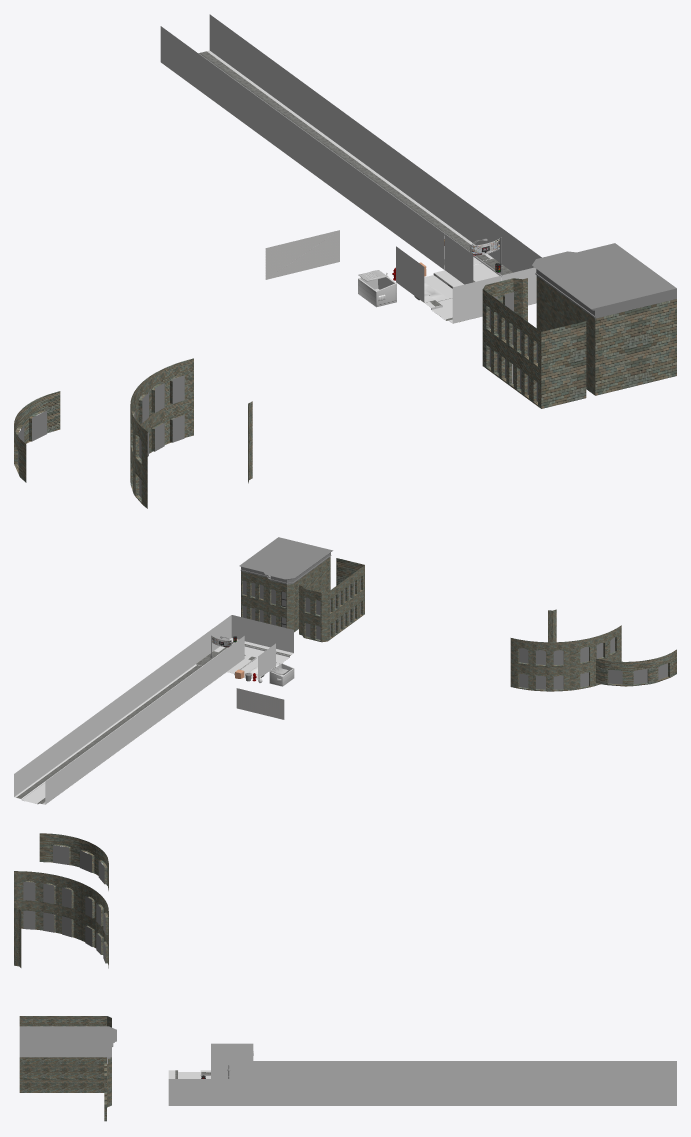
Rendered from level_pieces.FBX.
3 renders of one model, top to bottom at view 1: azimuth 30°, elevation 25°; view 2: azimuth 150°, elevation 25°; view 3: azimuth 270°, elevation 25°, orthographic. The views are drawn at different scales.
Visible parts, largest first — view 1: street_long_collide, roof_end, angled_rounded, extension_angled, roof_middle, corner_01, Plane001, endcap_windows, endcap_windows_round, angled, street_collide, street_long (+10 smaller); view 2: street_long_collide, middle005, corner_01, middle004, roof_end, angled_rounded, corner_02, corner_collide, extension_angled, roof_middle, street_long, Plane001 (+10 smaller); view 3: street_long_collide, angled, corner_02, middle005, corner_04, roof_end, street_hole_collide, roof_middle, street_collide, corner_collide, endcap_windows_round, corner_01 (+2 smaller).
Part boxes in pixels (x1,y1,x2,y2): street_long_collide: [160, 14, 493, 269]; roof_end: [532, 251, 640, 318]; angled_rounded: [536, 276, 640, 357]; extension_angled: [483, 278, 586, 370]; roof_middle: [578, 243, 676, 307]; corner_01: [134, 358, 252, 441]; Plane001: [265, 230, 339, 279]; endcap_windows: [482, 328, 541, 408]; endcap_windows_round: [482, 289, 541, 369]; angled: [536, 314, 640, 395]; street_collide: [445, 222, 521, 284]; street_long: [199, 51, 489, 264]; street_long_collide: [14, 641, 226, 804]; middle005: [596, 649, 676, 686]; corner_01: [510, 610, 572, 666]; middle004: [510, 635, 572, 691]; roof_end: [263, 543, 332, 584]; angled_rounded: [264, 557, 330, 609]; corner_02: [553, 609, 621, 665]; corner_collide: [213, 615, 262, 658]; extension_angled: [299, 558, 364, 617]; roof_middle: [239, 537, 301, 576]; street_long: [16, 665, 201, 803]; Plane001: [236, 688, 284, 719]; street_long_collide: [253, 1061, 676, 1105]; angled: [19, 1064, 111, 1107]; corner_02: [14, 871, 80, 937]; middle005: [39, 833, 108, 890]; corner_04: [14, 900, 80, 966]; roof_end: [19, 1026, 116, 1046]; street_hole_collide: [211, 1043, 253, 1078]; roof_middle: [19, 1044, 111, 1063]; street_collide: [211, 1061, 253, 1105]; corner_collide: [168, 1079, 210, 1105]; endcap_windows_round: [19, 1016, 106, 1026]; corner_01: [19, 883, 108, 939].
Size of the model in its own units: 50.43 by 6.63 by 60.93.
